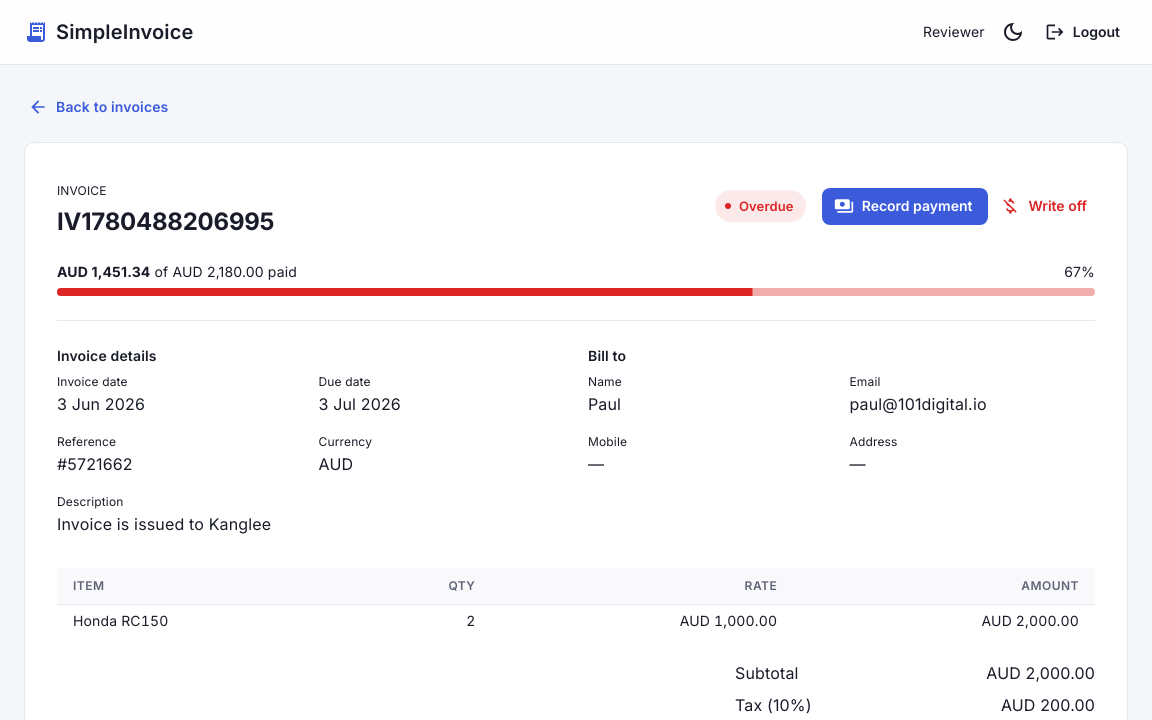
Scenario: Writing off a balance › needs a note when the reason is Other
Click the button "Write off" at (1046, 206), box [996,188,1095,225]
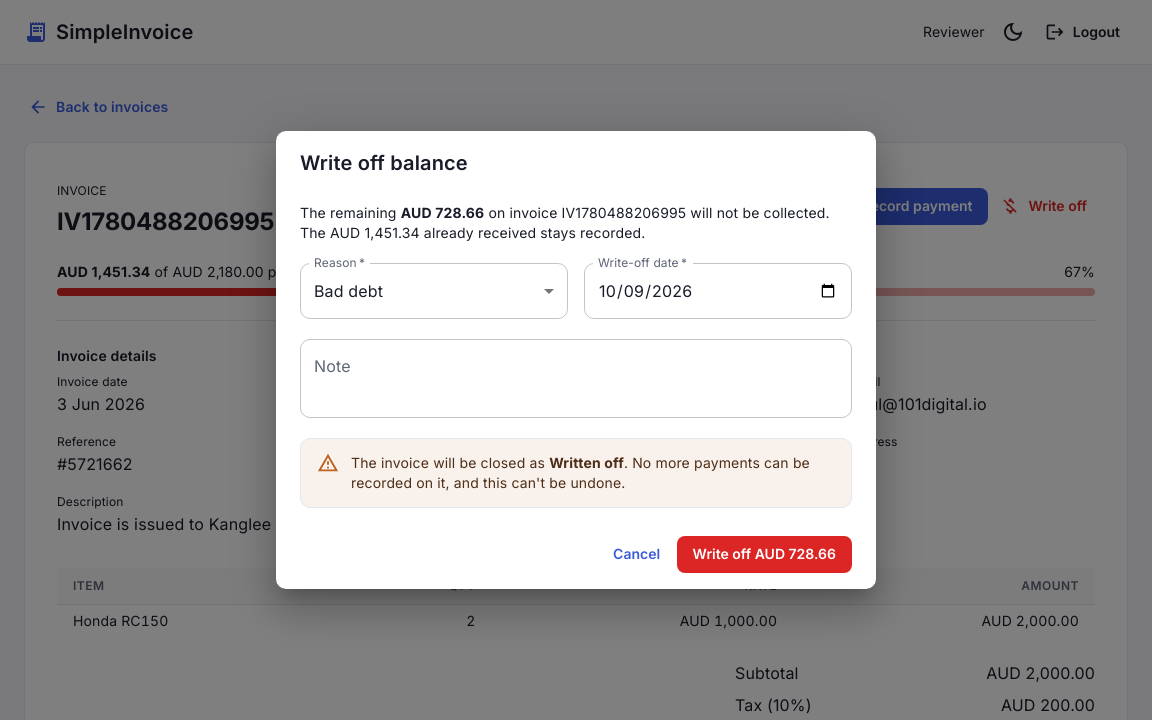
Click the dropdown named "reason" at (349, 291), box [314,281,383,301]
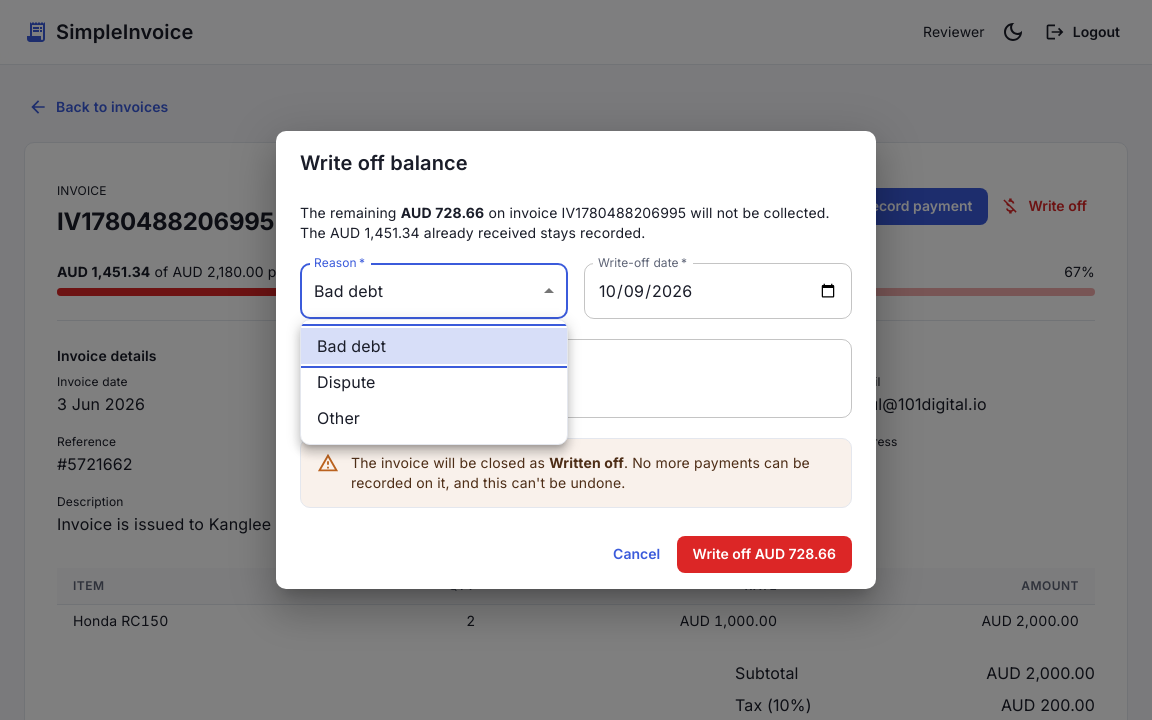
Click the option "Other" at (338, 418), box [317,408,360,428]
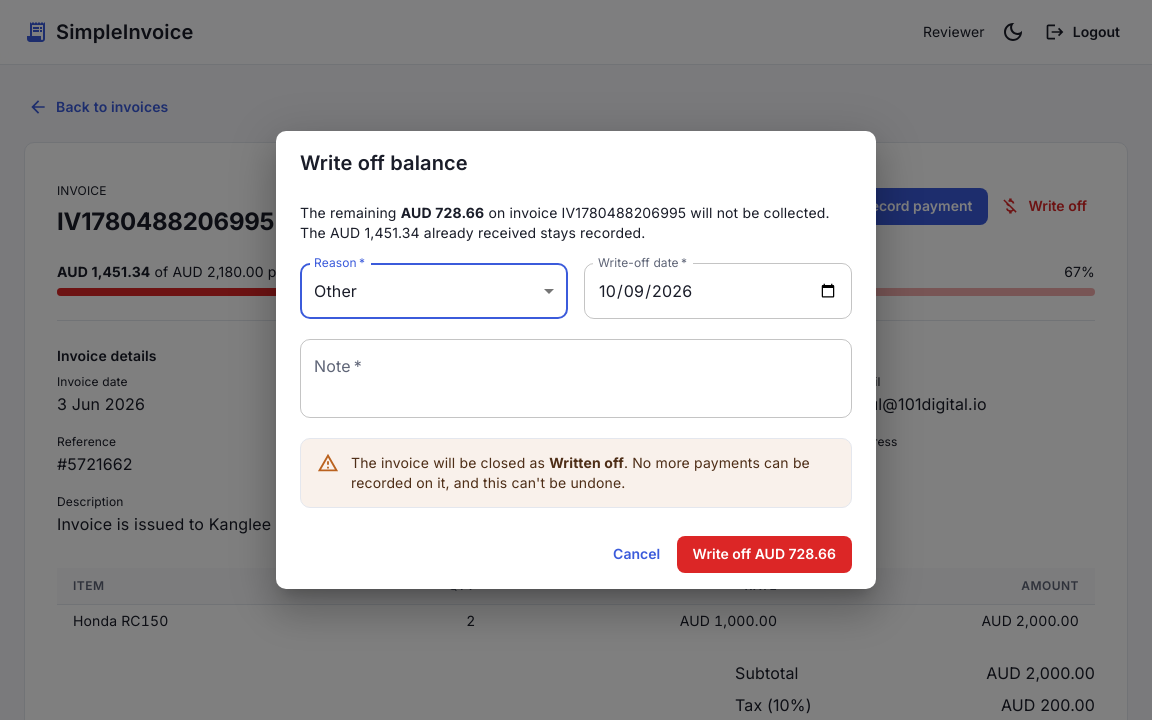
Click the button "Write off AUD 728.66" at (764, 555), box [677,536,852,573]
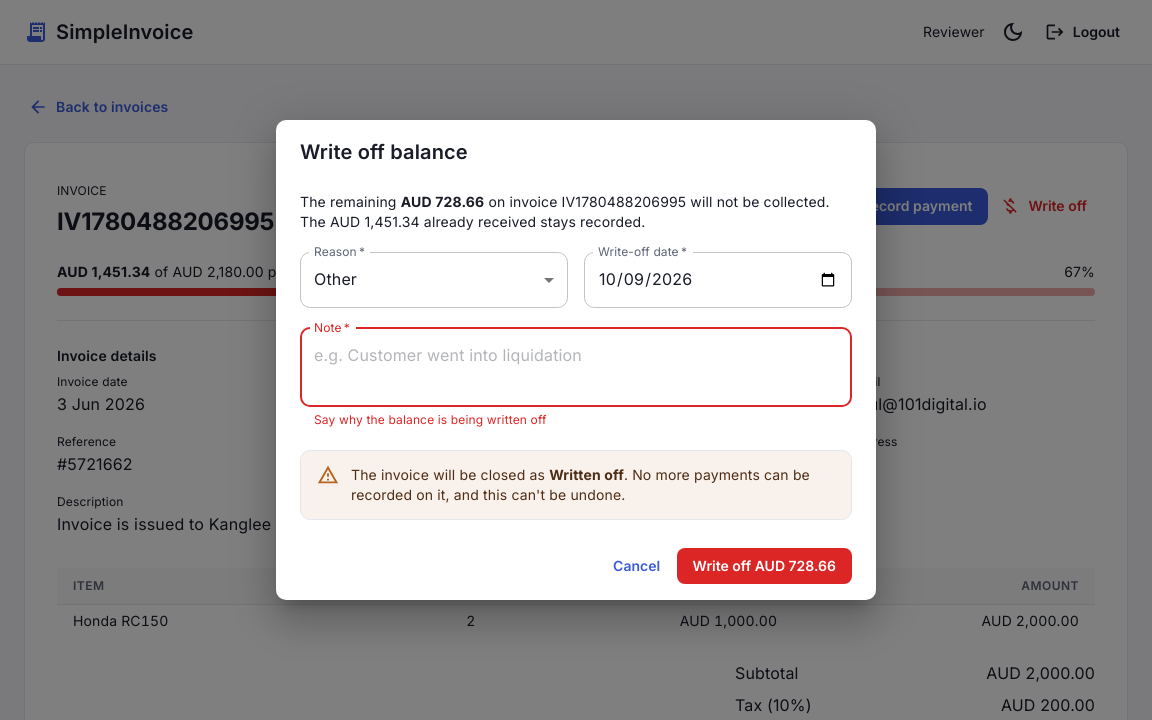
Check: the text "Say why the balance is being written off" is shown, box [314,412,547,427]
